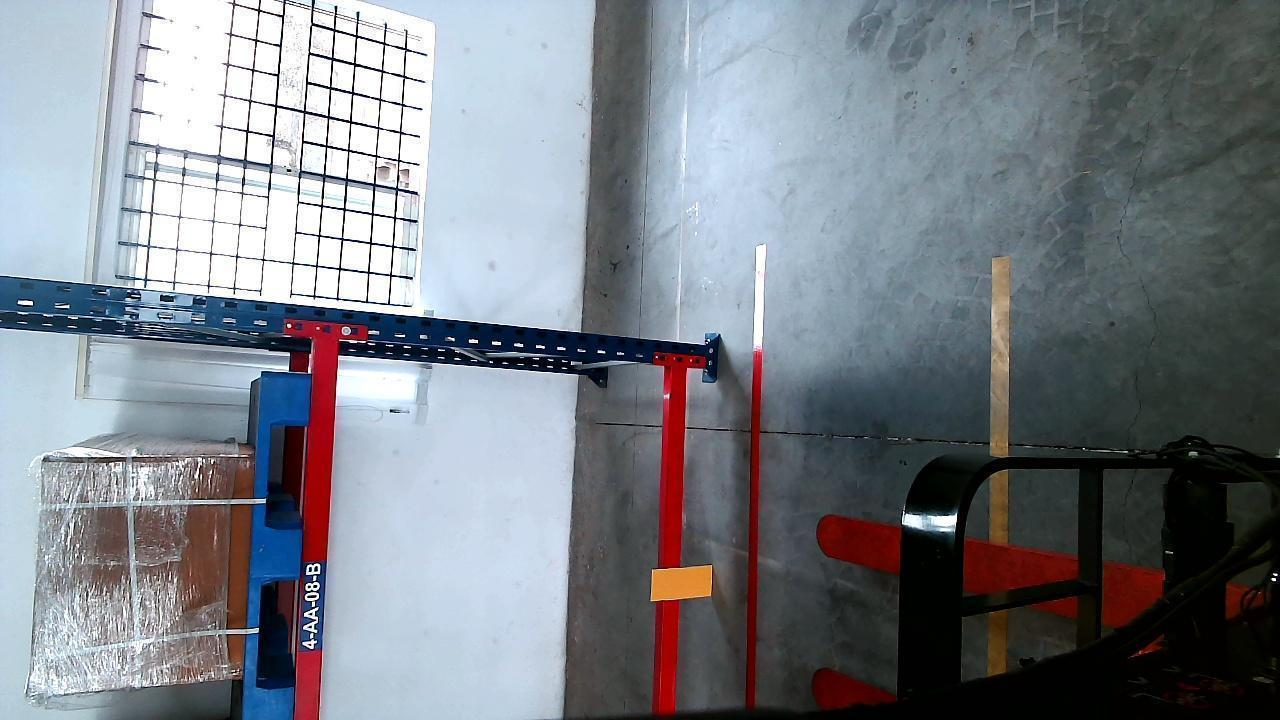red_line: (743, 271, 765, 716)
yellow_line: (988, 252, 1010, 512)
